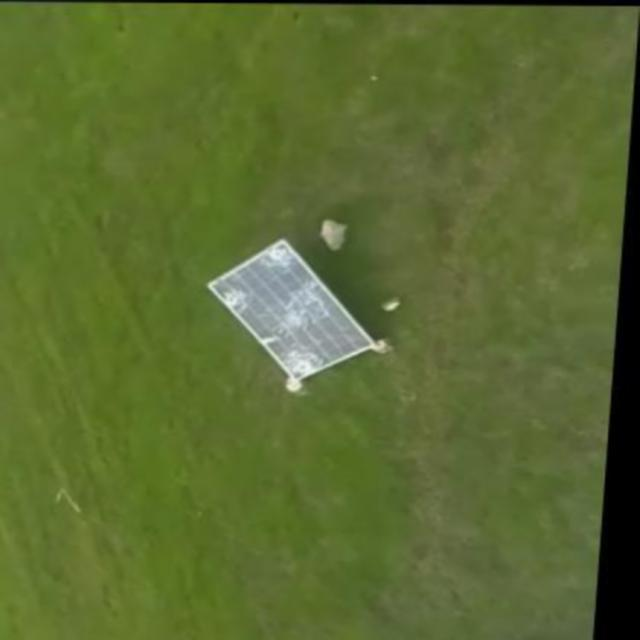cracked: (204, 238, 380, 380)
